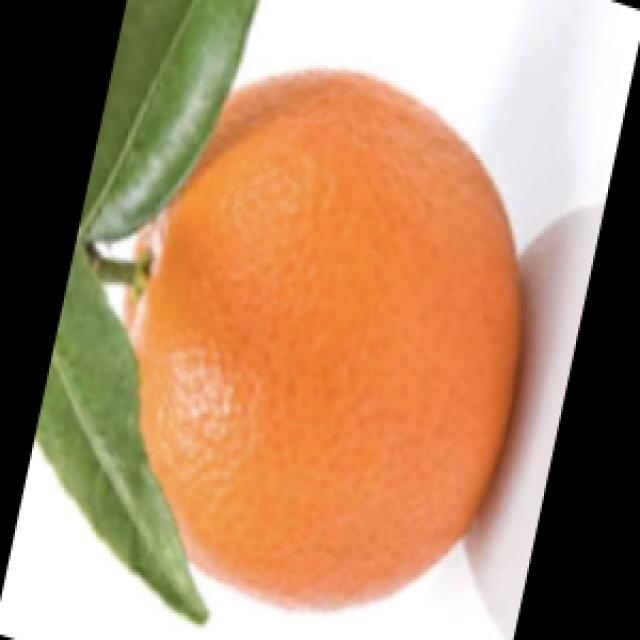fresh: (61, 0, 539, 617)
